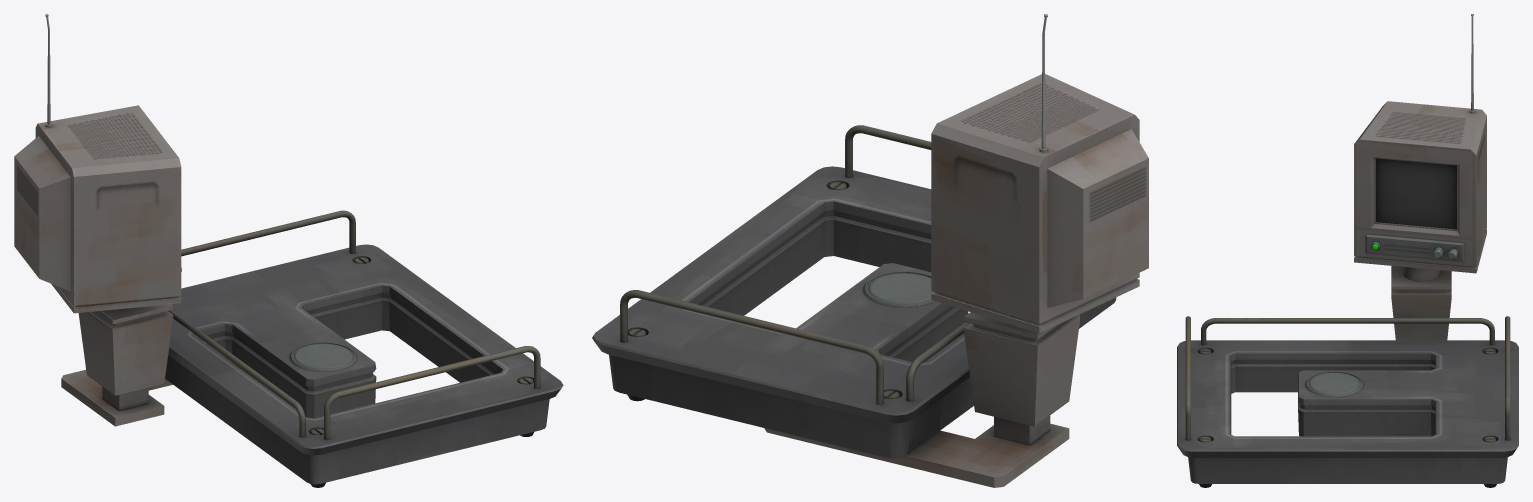
The model's file is haarp_intel_cradle_01.glb.
3 views of the same model, side by side, from view 1: azimuth 30°, elevation 25°; view 2: azimuth 150°, elevation 25°; view 3: azimuth 270°, elevation 25° (orthographic). The views are drawn at different scales.
Visible parts, largest first — view 1: haarp_intel_cradle_01; view 2: haarp_intel_cradle_01; view 3: haarp_intel_cradle_01.
Part boxes in pixels (box(x1,y1,x2,y2)): haarp_intel_cradle_01: box(14, 14, 563, 487); haarp_intel_cradle_01: box(592, 14, 1148, 487); haarp_intel_cradle_01: box(1177, 14, 1518, 487).
Bounding box in the file's own units: 0.772 × 0.7159 × 0.6641.
4 materials, 4 textured.
